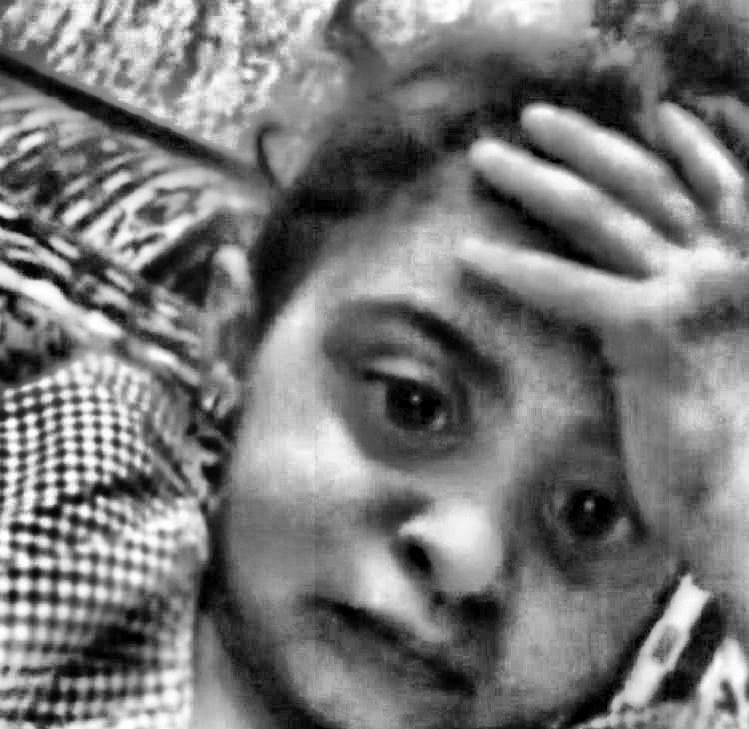sad: (316, 190, 670, 729)
